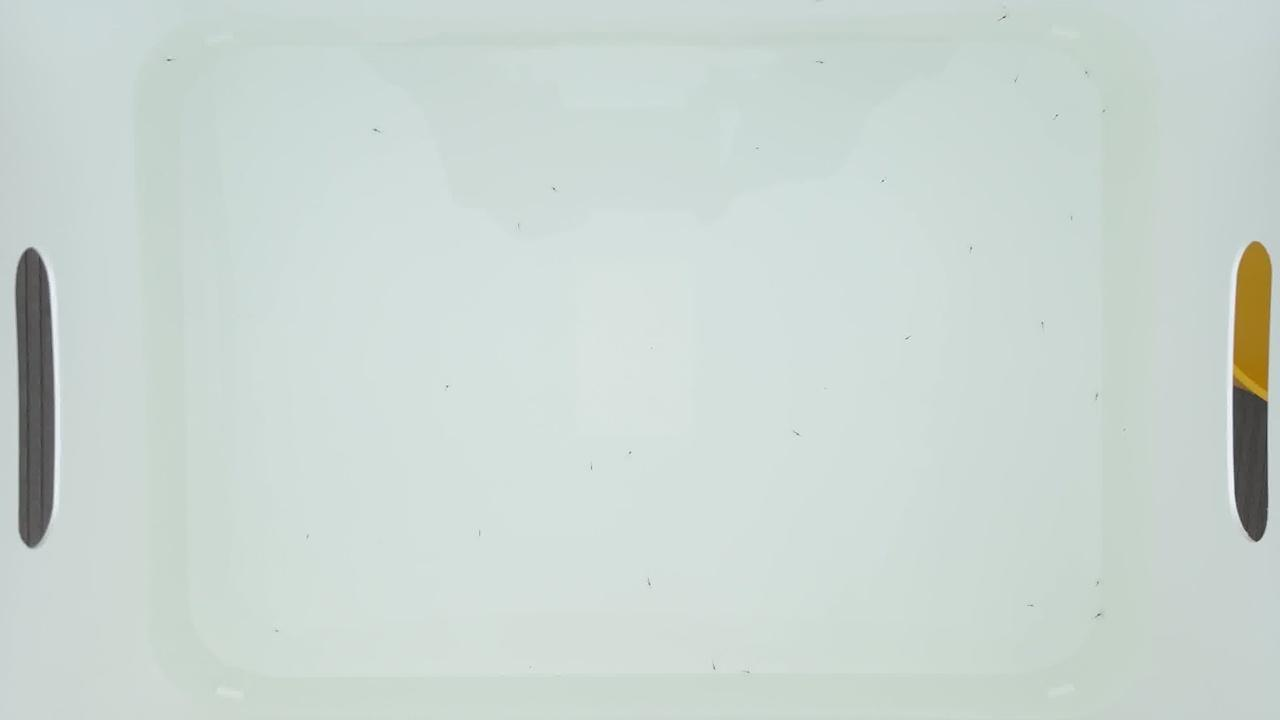shrimp: (162, 58, 174, 66), (369, 125, 381, 133), (513, 224, 525, 232), (549, 186, 561, 194), (818, 59, 830, 67), (999, 13, 1011, 21), (1010, 75, 1022, 83), (1081, 70, 1093, 78), (1052, 112, 1064, 120), (1100, 107, 1112, 115), (1067, 215, 1079, 223), (966, 245, 978, 253), (877, 178, 889, 186), (752, 145, 764, 153), (903, 335, 915, 343), (1040, 321, 1052, 329), (1091, 393, 1103, 401), (793, 431, 805, 439), (625, 449, 637, 457), (588, 463, 600, 471), (443, 383, 455, 391), (303, 533, 315, 541), (271, 628, 283, 636), (474, 530, 486, 538), (645, 579, 657, 587), (708, 664, 720, 672), (744, 670, 756, 678), (1028, 603, 1040, 611), (1093, 613, 1105, 621), (1092, 582, 1104, 590)
